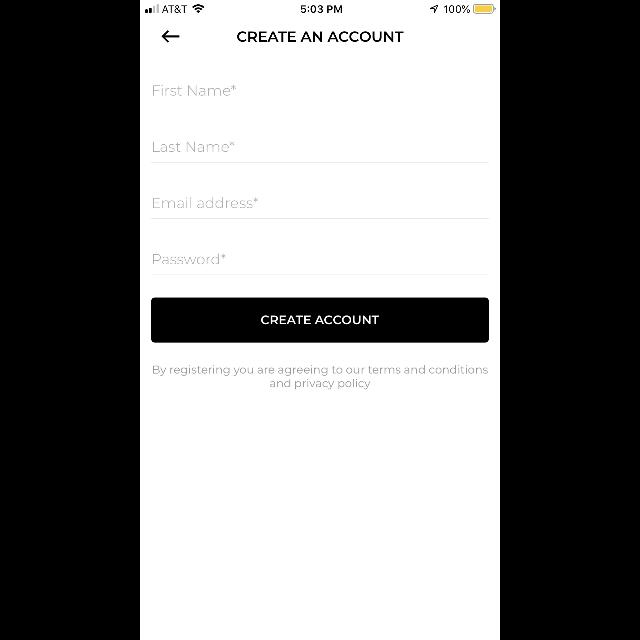icon: (162, 31, 180, 44)
input: (152, 253, 488, 275), (152, 197, 488, 219), (152, 85, 488, 107), (152, 142, 488, 162)
text: (154, 364, 488, 390), (237, 32, 403, 42), (154, 198, 258, 208), (154, 84, 236, 96), (154, 253, 226, 265), (153, 142, 235, 152)
textbutton: (152, 298, 488, 342)
uppertaskbar: (140, 0, 500, 14)
